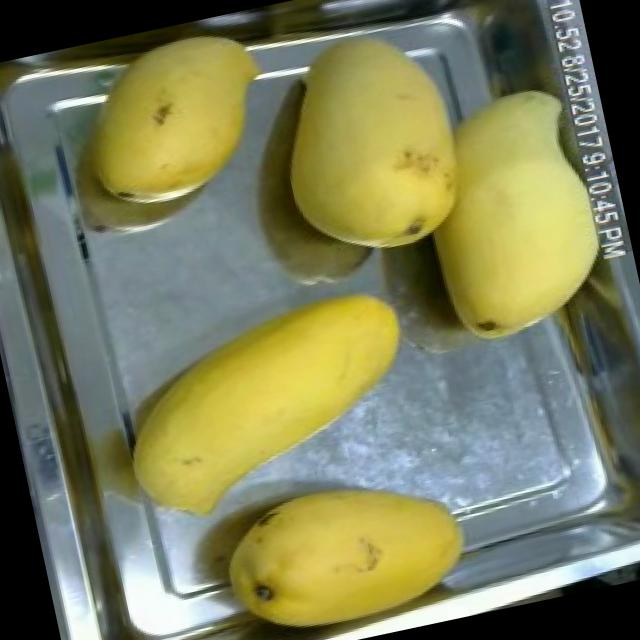fruit: (90, 269, 447, 532), (388, 66, 630, 362), (248, 9, 492, 280), (202, 438, 493, 640), (49, 10, 284, 226)
